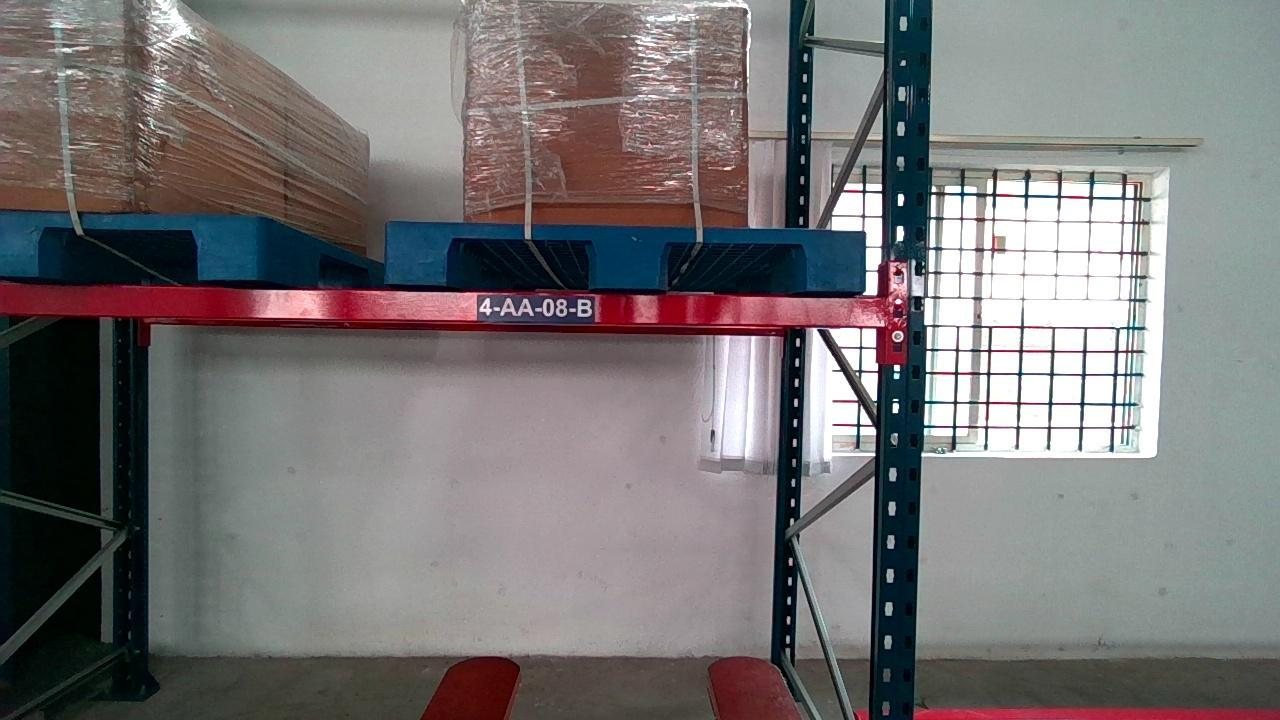h_rack: (1, 285, 886, 326)
small_pallet: (383, 223, 864, 291), (2, 212, 262, 276)
